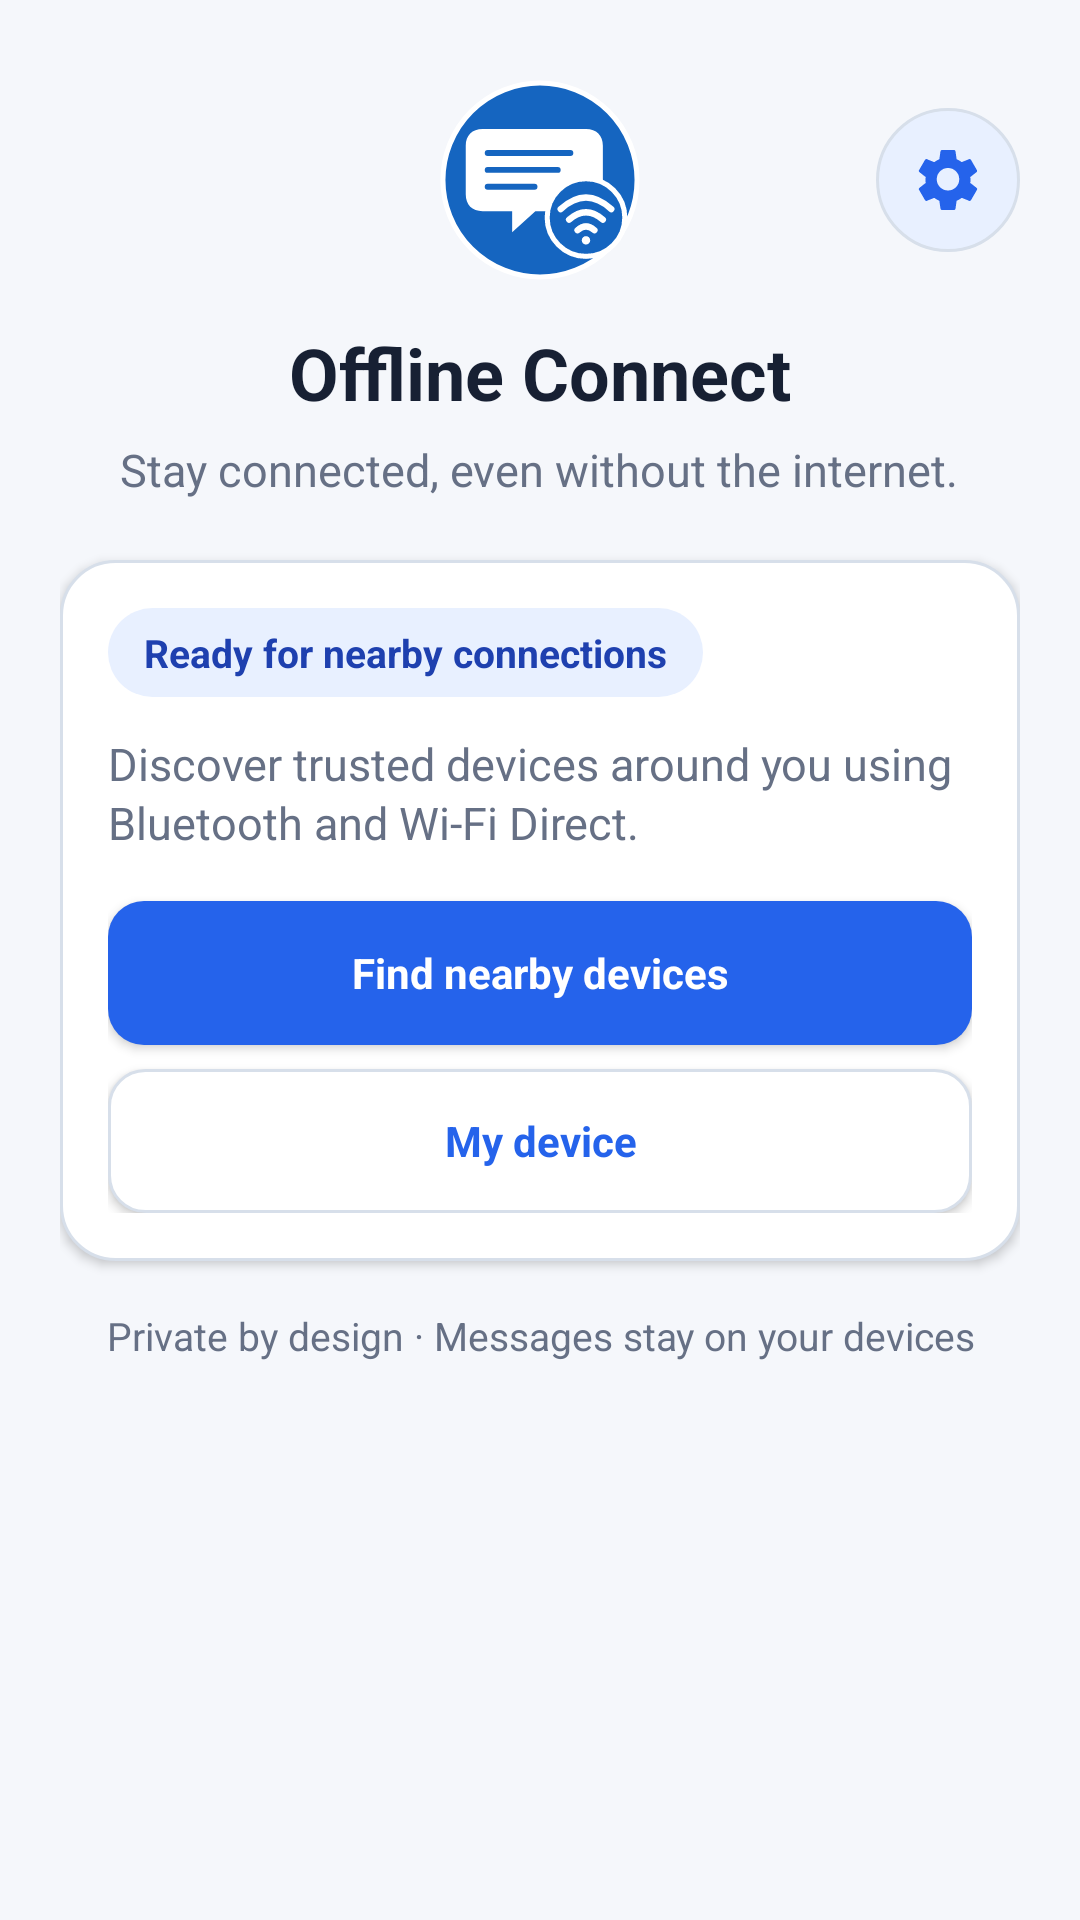

Point at icon controls on the screen. Image size 1080×1920, points as point (x, y).
Settings: point (948, 180)
